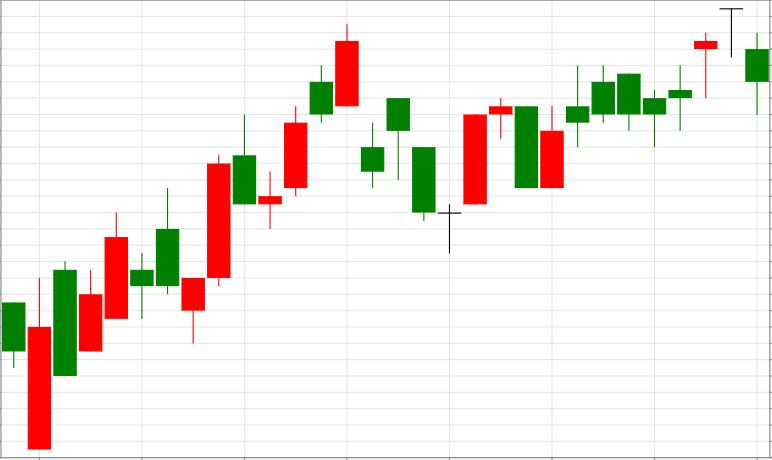morning_star_rise: (336, 25, 487, 254)
